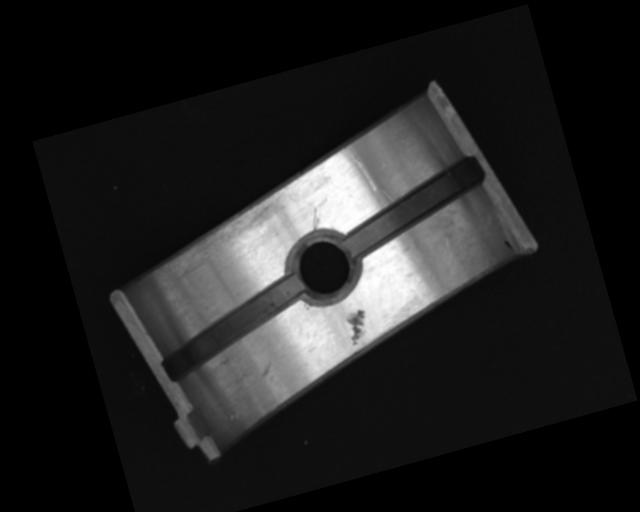blot: (503, 237, 515, 254)
bruise: (342, 307, 373, 347), (258, 361, 276, 384), (226, 411, 240, 422)
gap: (146, 269, 316, 382), (331, 153, 496, 262)
hole: (282, 224, 366, 309)
nick: (340, 141, 378, 198), (307, 206, 322, 230)
scratch: (136, 178, 298, 290)
